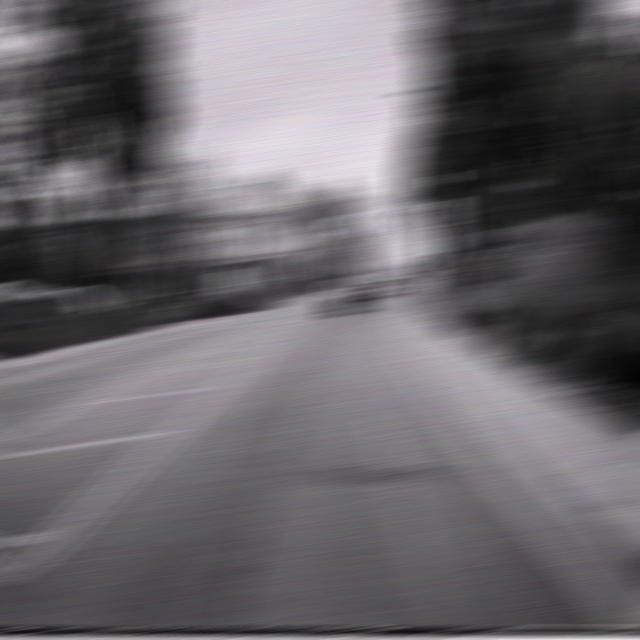speedLimit25: (430, 198, 462, 252)
